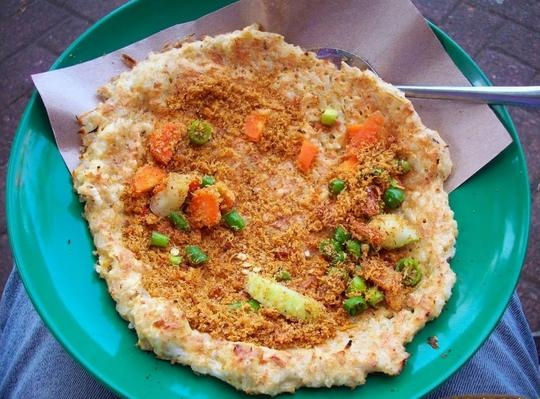kerak_telor: (71, 26, 454, 376)
